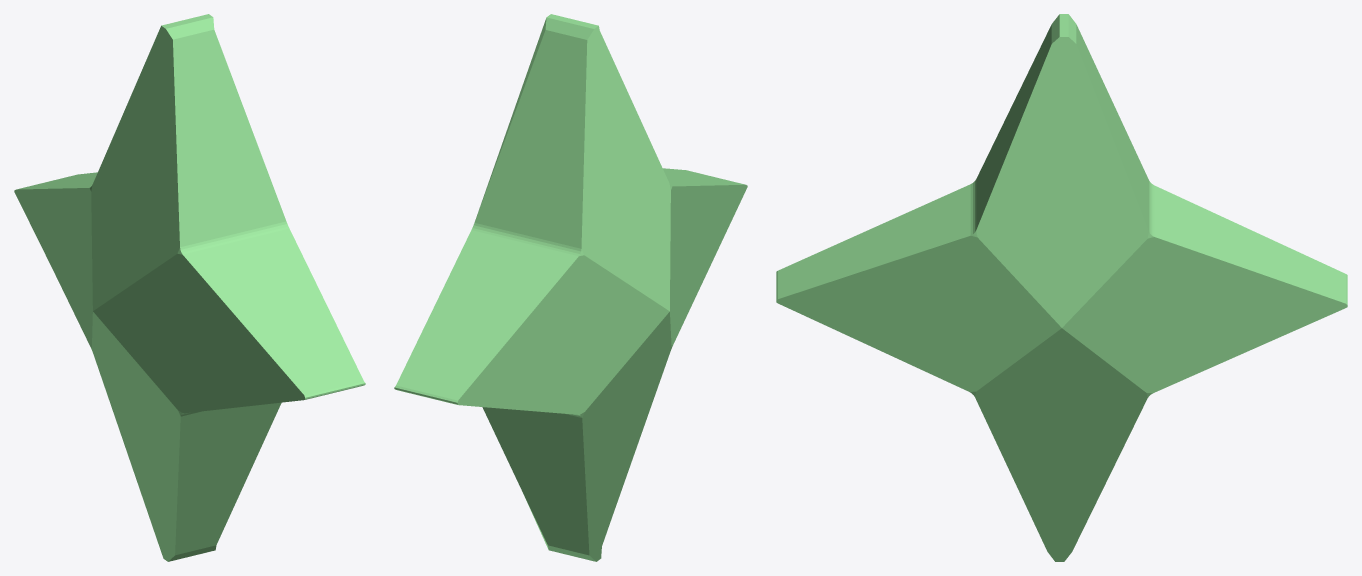
Rendered from Gema  GLB.glb.
The picture shows the model from 3 angles, left to right: view 1: azimuth 30°, elevation 25°; view 2: azimuth 150°, elevation 25°; view 3: azimuth 270°, elevation 25°; orthographic projection.
Parts seen in each view (by area): view 1: Cube; view 2: Cube; view 3: Cube.
Boxes of the visible parts, left/top/right/bottom form: Cube: left=14, top=14, right=365, bottom=561; Cube: left=394, top=14, right=747, bottom=561; Cube: left=776, top=14, right=1347, bottom=561.
Bounding box in the file's own units: 0.0707 × 0.2009 × 0.1983.
